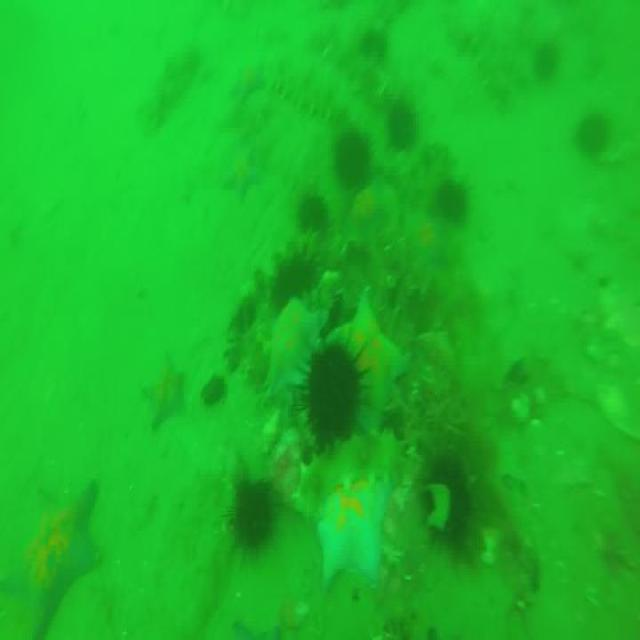echinus: (295, 342, 366, 451), (418, 454, 476, 542), (223, 479, 277, 559), (270, 250, 316, 319), (330, 125, 373, 188), (434, 172, 466, 231), (574, 109, 612, 149), (388, 96, 418, 144), (358, 22, 390, 65), (297, 191, 328, 231), (534, 41, 561, 70)
holothurian: (293, 436, 408, 520), (443, 10, 511, 100), (268, 58, 346, 125)
starfish: (0, 479, 101, 640), (326, 296, 404, 428), (316, 482, 392, 586), (250, 300, 330, 389), (143, 346, 188, 430), (222, 141, 262, 202), (228, 60, 268, 104)
